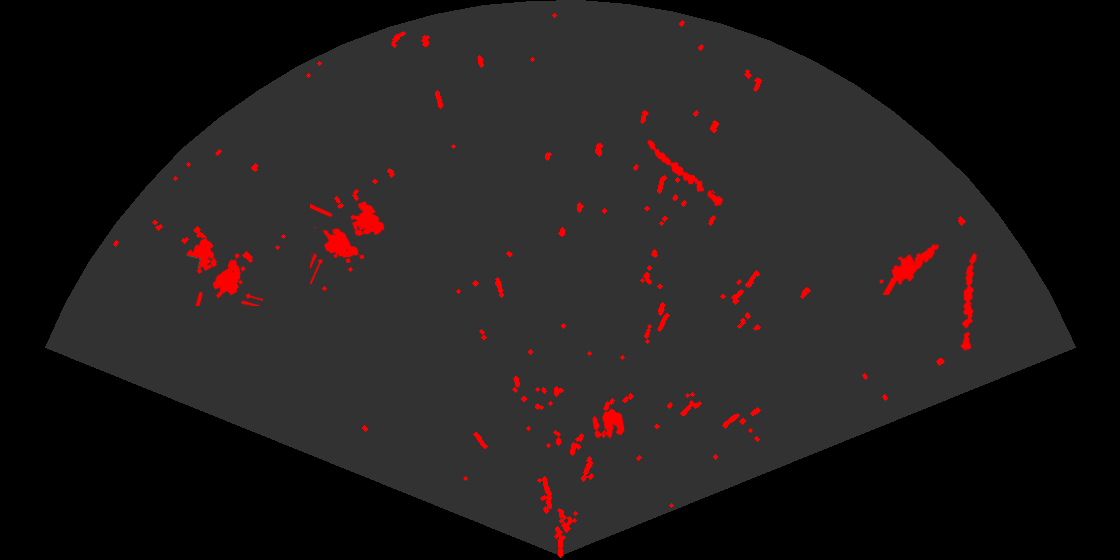ball: (591, 407, 626, 440)
cage: (310, 200, 386, 284), (184, 237, 263, 306)
chain: (646, 138, 725, 208), (959, 251, 978, 352)
frogman: (881, 242, 941, 295)
